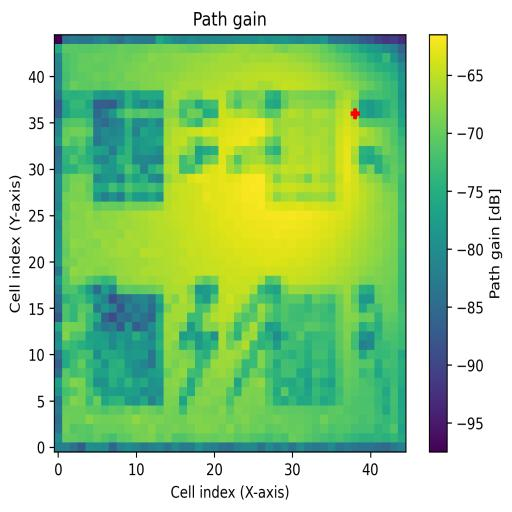Concrete: (265, 91, 336, 203)
Glass: (93, 90, 163, 202)
Metal: (266, 286, 343, 406)
Wood: (86, 284, 164, 406)
